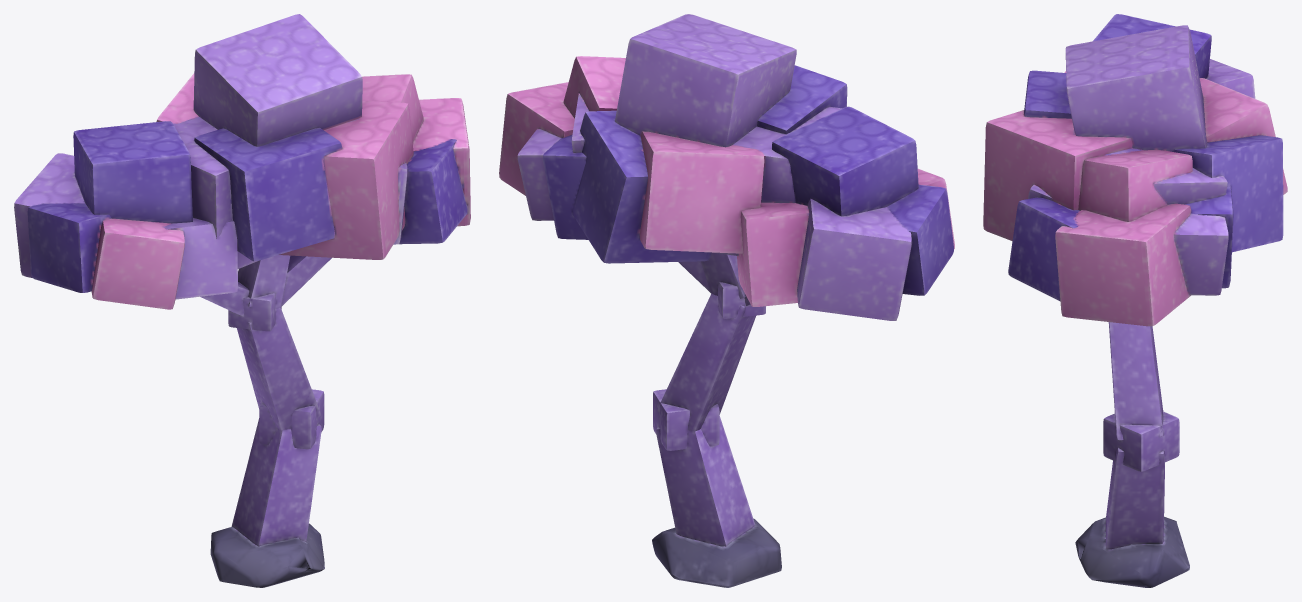
The model's file is Cosmos_ArbreAlien.fbx.
3 views of the same model, side by side, from view 1: azimuth 30°, elevation 25°; view 2: azimuth 150°, elevation 25°; view 3: azimuth 270°, elevation 25° (orthographic). The views are drawn at different scales.
Parts seen in each view (by area): view 1: Cosmos_ArbreAlien; view 2: Cosmos_ArbreAlien; view 3: Cosmos_ArbreAlien.
Boxes of the visible parts, bbox=[...] form: Cosmos_ArbreAlien: bbox=[14, 14, 470, 587]; Cosmos_ArbreAlien: bbox=[499, 14, 954, 587]; Cosmos_ArbreAlien: bbox=[983, 14, 1287, 587].
Size of the model in its own units: 1354 by 1569 by 825.
Materials: 1 (1 with a texture image).
